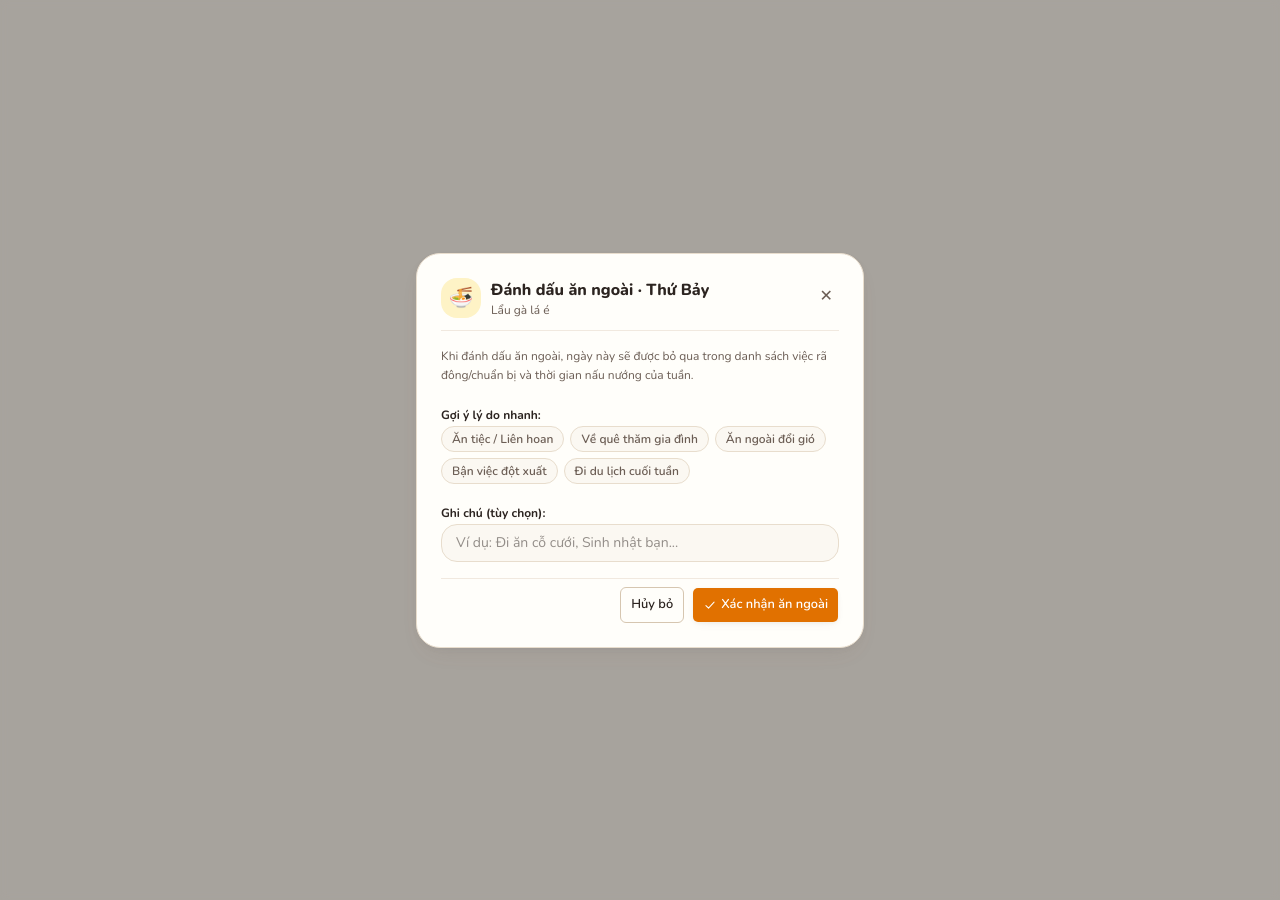
Test: EatOutModal › selects a preset chip and populates input
The image size is (1280, 900).
What coordinates should you click on to do the following:
click the button "Ăn tiệc / Liên hoan"
I would click on:
 (503, 438)
Its box is [441, 426, 564, 452].
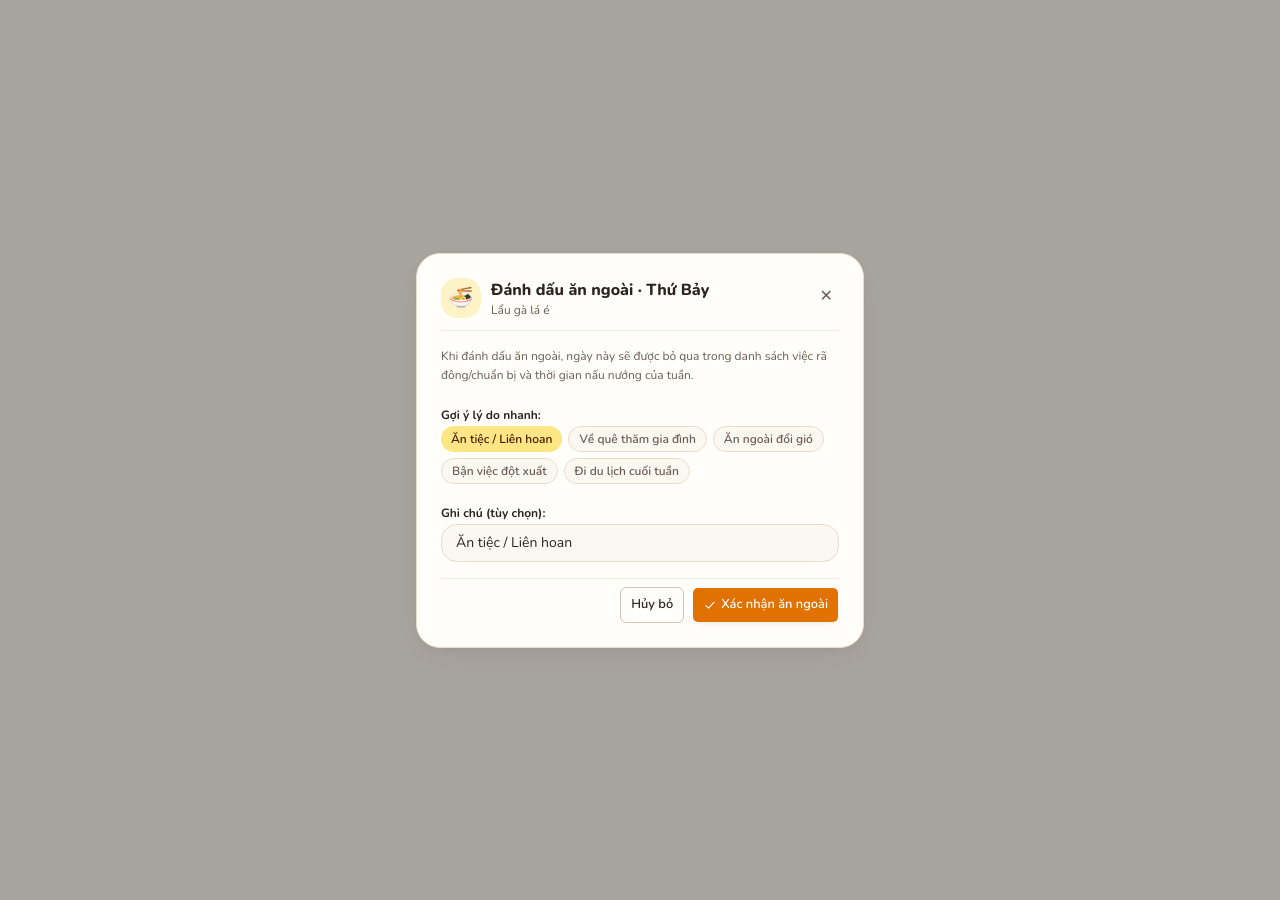
expect the field with placeholder "Ví dụ: Đi ăn cỗ cưới, Sinh nhật bạn..." holds "Ăn tiệc / Liên hoan": met, box [441, 524, 839, 562]
